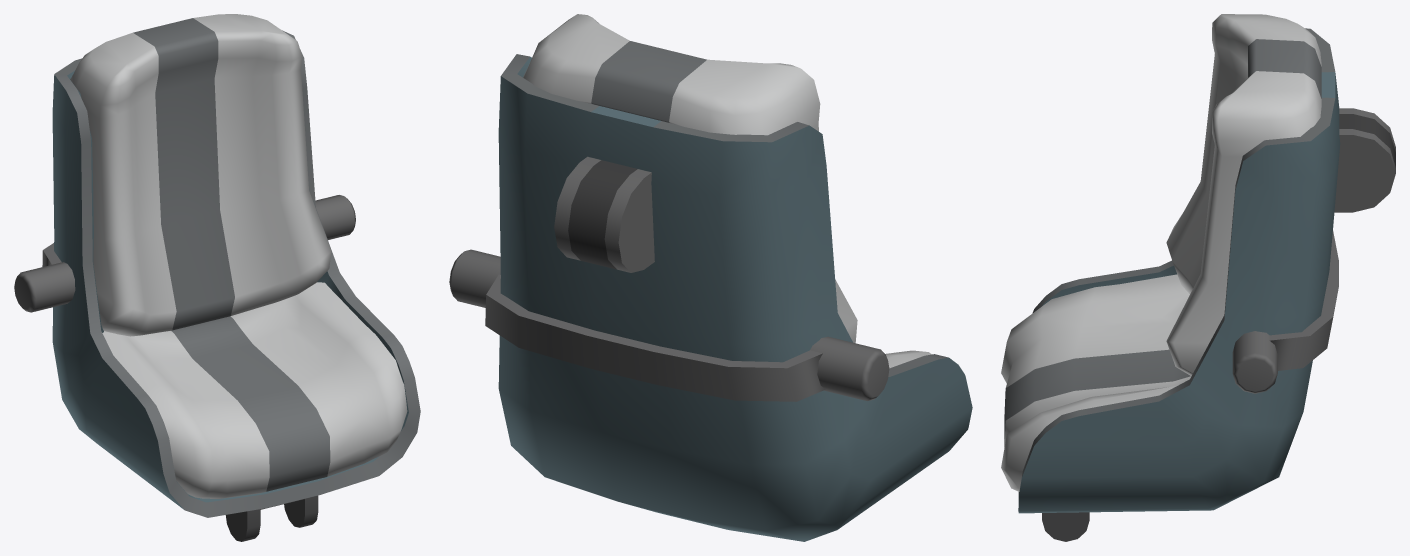
The model's file is Armchair_013_Chair_01.fbx.
The picture shows the model from 3 angles, left to right: view 1: azimuth 30°, elevation 25°; view 2: azimuth 150°, elevation 25°; view 3: azimuth 270°, elevation 25°; orthographic projection. The views are drawn at different scales.
Parts seen in each view (by area): view 1: Armchair_013_Chair_01; view 2: Armchair_013_Chair_01; view 3: Armchair_013_Chair_01.
Boxes of the visible parts, x1=… form: Armchair_013_Chair_01: x1=14, y1=14, x2=420, y2=541; Armchair_013_Chair_01: x1=449, y1=14, x2=972, y2=541; Armchair_013_Chair_01: x1=1001, y1=14, x2=1395, y2=541.
Size of the model in its own units: 84.26 by 81.16 by 106.
